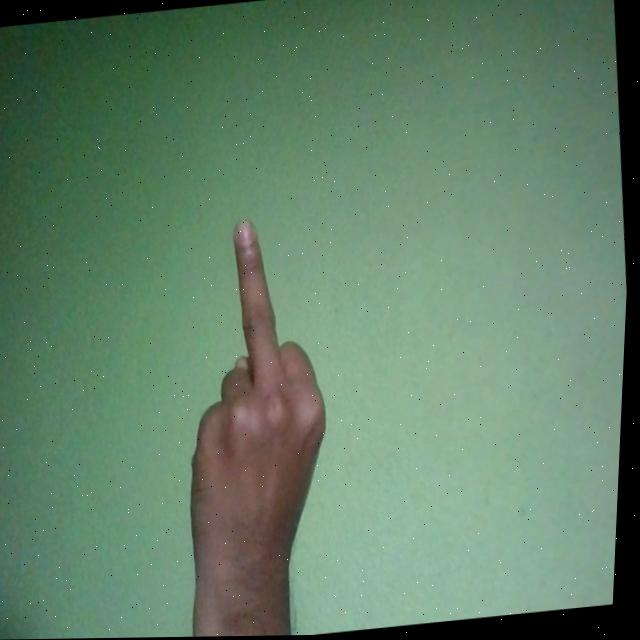Middle Finger: (165, 209, 355, 635)
